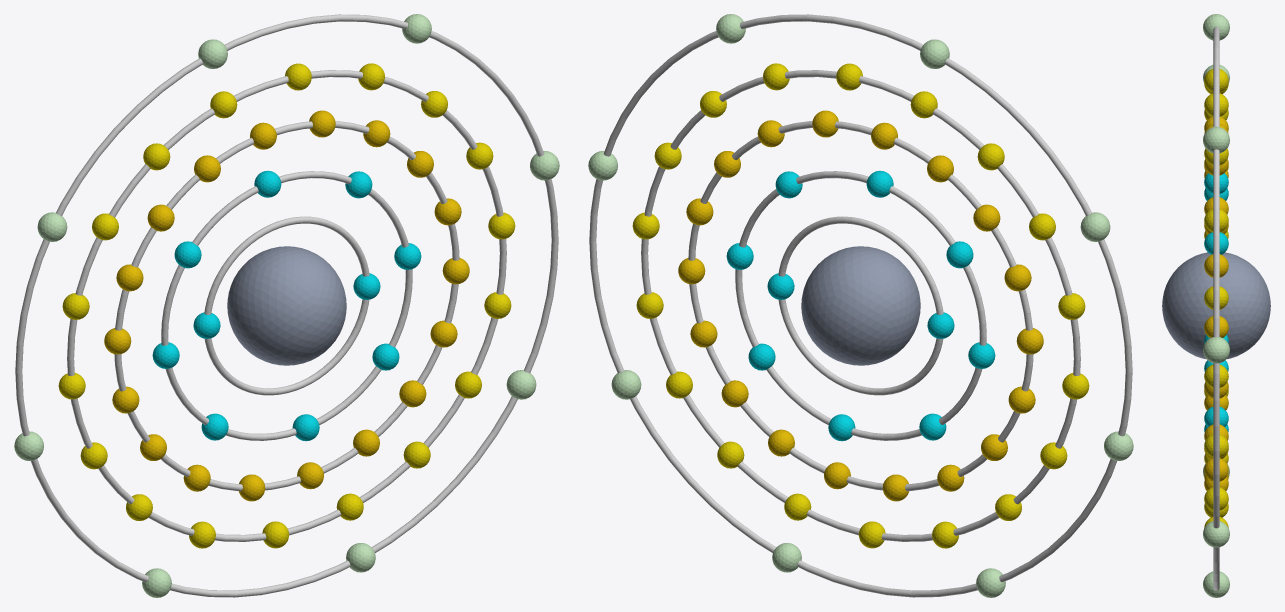
The picture shows the model from 3 angles, left to right: view 1: azimuth 30°, elevation 25°; view 2: azimuth 150°, elevation 25°; view 3: azimuth 270°, elevation 25°; orthographic projection. The views are drawn at different scales.
Parts seen in each view (by area): view 1: world; view 2: world; view 3: world.
Boxes of the visible parts, bbox=[...] form: world: bbox=[14, 14, 559, 597]; world: bbox=[588, 14, 1133, 597]; world: bbox=[1162, 14, 1270, 597].
Bounding box in the file's own units: 2.31 × 2.31 × 0.44.
